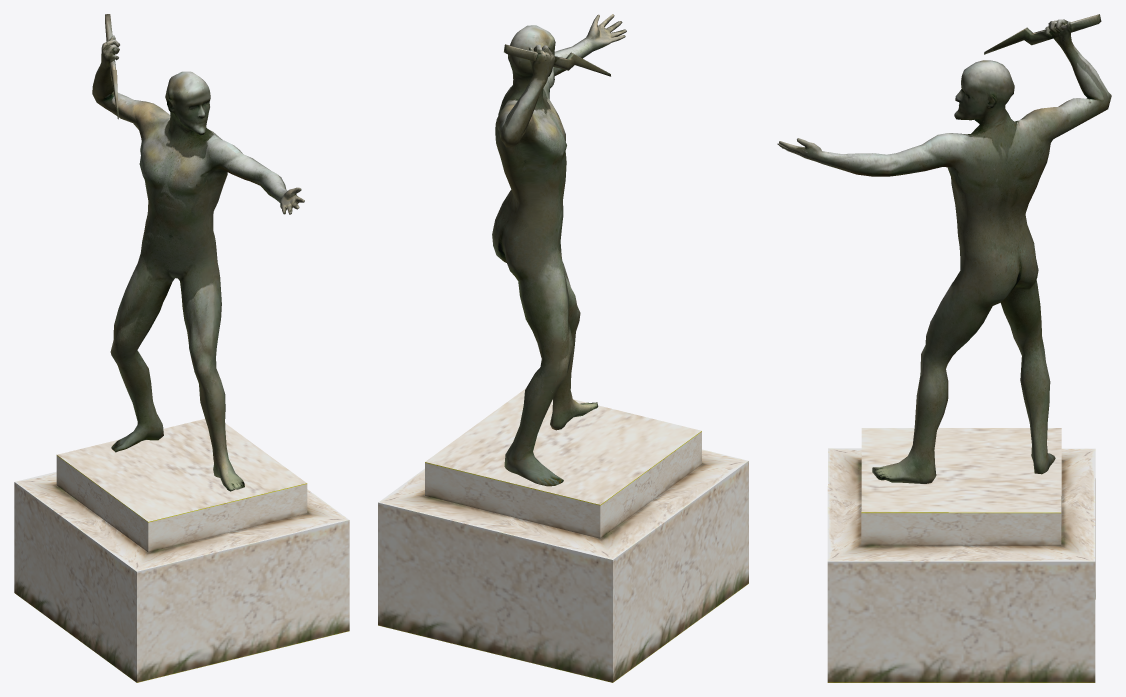
File: zannas.glb
3 views of the same model, side by side, from view 1: azimuth 30°, elevation 25°; view 2: azimuth 150°, elevation 25°; view 3: azimuth 270°, elevation 25° (orthographic). The views are drawn at different scales.
Parts seen in each view (by area): view 1: Zanas_Allive__03_-_Default_0; view 2: Zanas_Allive__03_-_Default_0; view 3: Zanas_Allive__03_-_Default_0.
Part boxes in pixels (x1,y1,x2,y2): Zanas_Allive__03_-_Default_0: [14, 14, 349, 682]; Zanas_Allive__03_-_Default_0: [378, 14, 748, 682]; Zanas_Allive__03_-_Default_0: [777, 14, 1111, 682].
Bounding box in the file's own units: 0.801 × 2 × 1.
2 materials, 2 textured.
